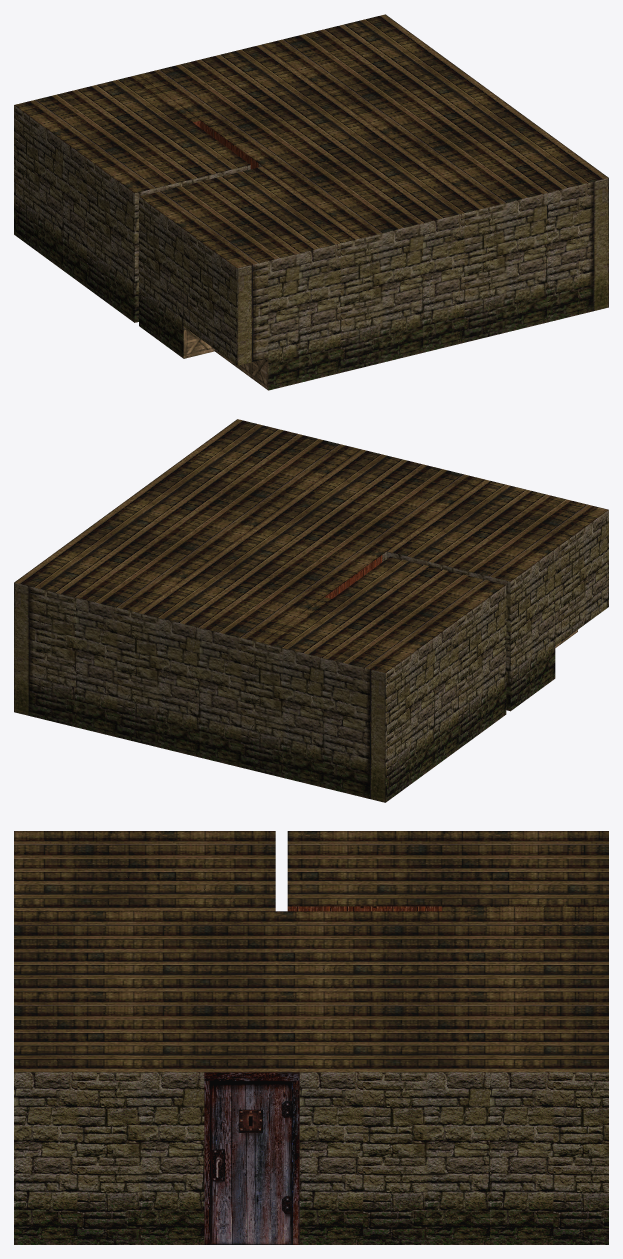
Rendered from zddb03.blv.obj.
3 views of the same model, one above another, from view 1: azimuth 30°, elevation 25°; view 2: azimuth 150°, elevation 25°; view 3: azimuth 270°, elevation 25° (orthographic). The views are drawn at different scales.
Visible parts, largest first — view 1: Room1; view 2: Room1; view 3: Room1.
Part boxes in pixels (x1=…): Room1: x1=14, y1=14, x2=608, y2=390; Room1: x1=14, y1=419, x2=608, y2=802; Room1: x1=14, y1=831, x2=608, y2=1244.
Bounding box in the file's own units: 768 × 256 × 800.
8 materials, 8 textured.
